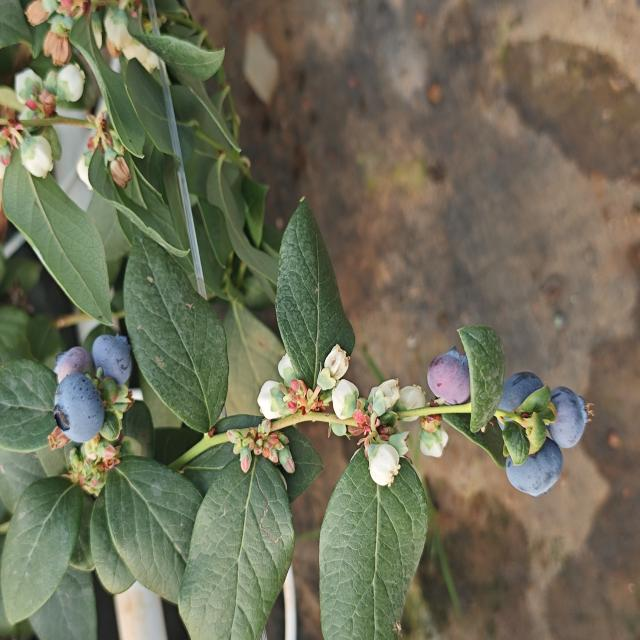ripe: (490, 366, 550, 440), (48, 368, 100, 446), (498, 444, 563, 496), (424, 344, 475, 410), (81, 320, 133, 378), (548, 382, 590, 439)
